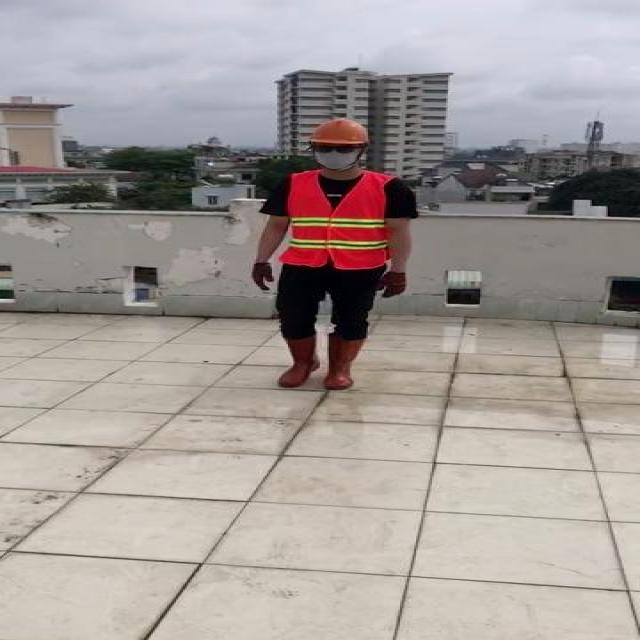boots: (324, 336, 366, 390), (282, 332, 322, 387)
face_mask: (312, 142, 362, 169)
glasses: (312, 142, 358, 156)
hand_glove: (375, 270, 407, 300), (252, 262, 272, 293)
head_helmet: (309, 118, 372, 146)
person: (240, 113, 420, 404)
vest: (283, 171, 391, 268)
